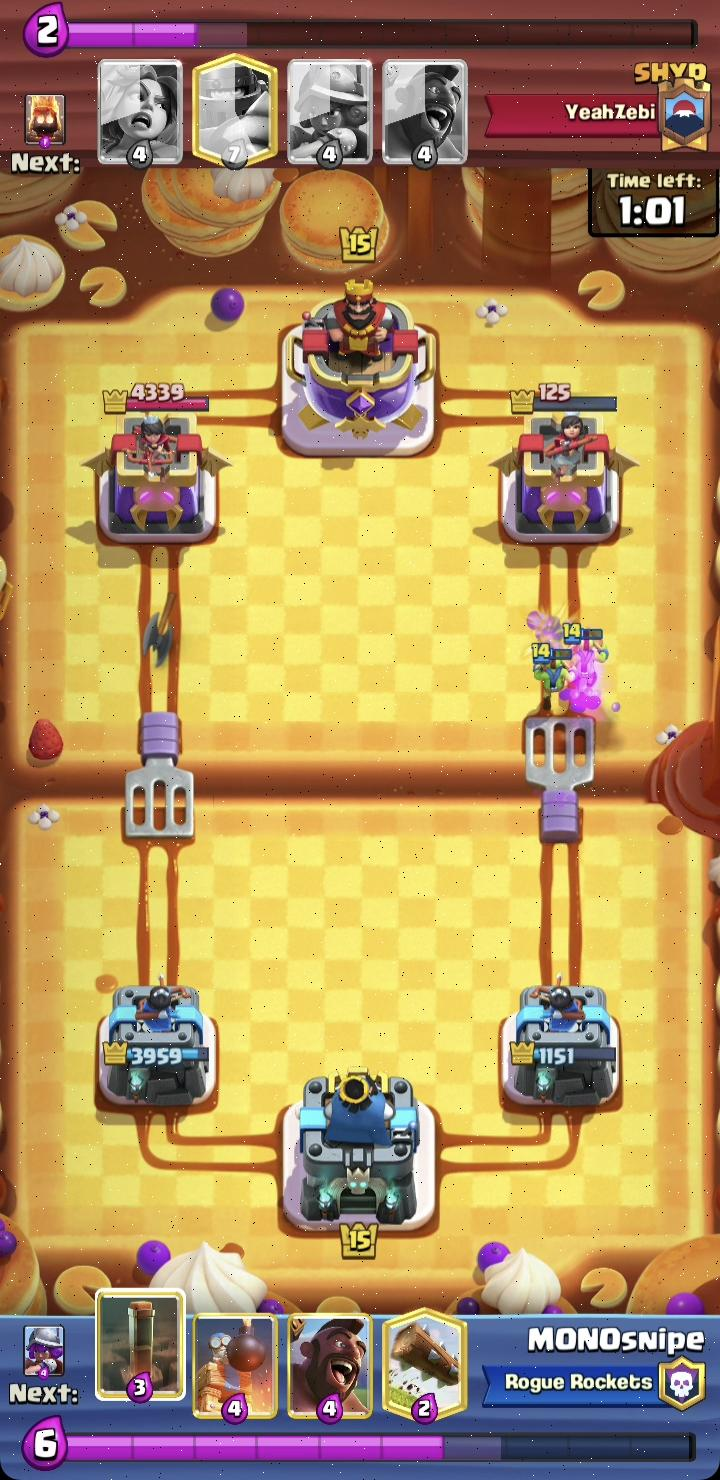EKingTower: (282, 280, 436, 457)
EnemyPrincessTower: (100, 398, 228, 545), (501, 384, 618, 544)
OGoblin: (567, 626, 608, 704), (532, 642, 572, 708)
OwnKingTower: (283, 1071, 435, 1230)
OwnPrincessTower: (501, 986, 618, 1106), (99, 986, 215, 1107)
